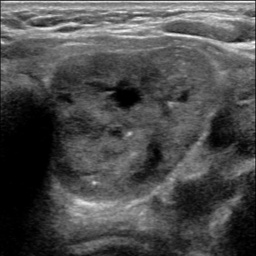mass: (45, 49, 214, 196)
